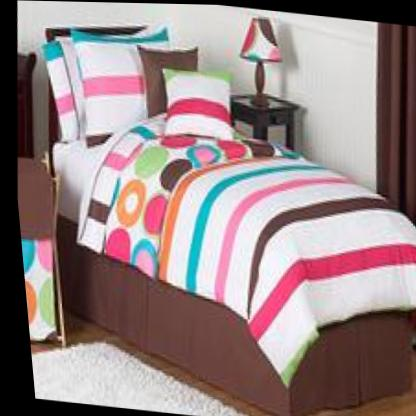Bed: (10, 11, 416, 416)
